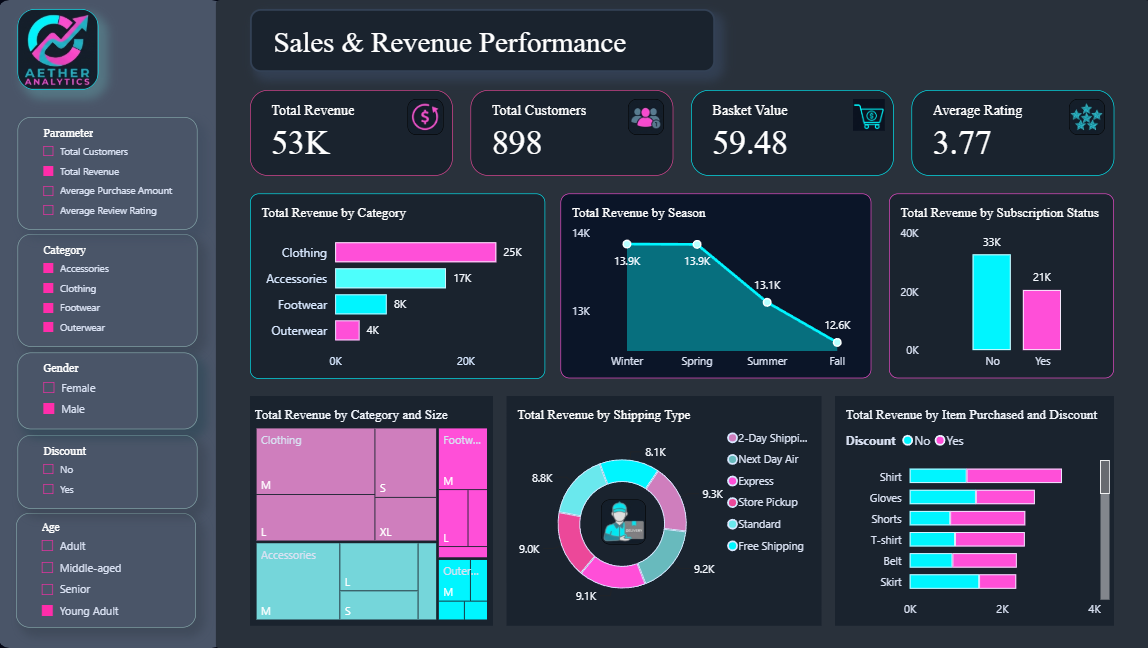

This screenshot's page, from the dashboard's own definition file:
{"tool":"powerbi","page":{"name":"Page 1","canvas":[1280,720],"ordinal":0},"visuals":[{"type":"shape","box":[0,0,250,720],"z":0},{"type":"shape","box":[241,0,1039,720.8],"z":1000},{"type":"cardVisual","fields":{"Data":["customer_info.heading"]},"box":[280,10.7,516.6,70.1],"z":2000},{"type":"slicer","fields":{"Values":["customer_info.Category"]},"box":[21,260,200,125],"z":3000},{"type":"slicer","fields":{"Values":["customer_info.age_category"]},"box":[20,570,200,127],"z":4000},{"type":"slicer","fields":{"Values":["customer_info.Discount_Applied"]},"box":[21.3,483,200,82],"z":5000},{"type":"slicer","fields":{"Values":["customer_info.Gender"]},"box":[21,391,200,85],"z":6000},{"type":"slicer","fields":{"Values":["Parameter.Parameter"]},"box":[21,130,200,125],"z":7000},{"type":"lineChart","fields":{"Y":["customer_info.total revenue"],"Category":["customer_info.Season"]},"box":[625,215,345,205],"z":8000},{"type":"treemap","fields":{"Values":["customer_info.total revenue"],"Group":["customer_info.Category"],"Details":["customer_info.Size"]},"box":[280,440.4,270,255],"z":9000},{"type":"donutChart","fields":{"Y":["customer_info.total revenue"],"Category":["customer_info.Shipping_Type"]},"box":[565,440.4,350,255],"z":10000},{"type":"barChart","fields":{"Y":["customer_info.total revenue"],"Category":["customer_info.Item_Purchased"],"Series":["customer_info.Discount_Applied"]},"box":[930,440,310,255],"z":11000},{"type":"barChart","fields":{"Y":["customer_info.total revenue"],"Category":["customer_info.Category"]},"box":[280,215,328,205.7],"z":12000},{"type":"clusteredColumnChart","fields":{"Y":["customer_info.total revenue"],"Category":["customer_info.Subscription_Status"]},"box":[990,215,250,205],"z":13000},{"type":"image","box":[21,10.7,90,90],"z":14000},{"type":"cardVisual","fields":{"Data":["customer_info.total revenue"]},"box":[280,100.6,225,95],"z":15000},{"type":"cardVisual","fields":{"Data":["customer_info.number of customers"]},"box":[525,100.6,225,95],"z":16000},{"type":"cardVisual","fields":{"Data":["customer_info.average review rating"]},"box":[1015,100.6,225,95],"z":17000},{"type":"cardVisual","fields":{"Data":["customer_info.average purchase amount"]},"box":[770,100.6,225,95],"z":18000},{"type":"image","box":[950,110,35,35],"z":19000},{"type":"image","box":[455,110,40,40],"z":20000},{"type":"image","box":[700,110,40,40],"z":21000},{"type":"image","box":[1190,110,40,40],"z":22000},{"type":"image","box":[670,555,50.3,50.3],"z":23000}]}

Visuals, with their boxes in screenshot pixels (x1, y1, x2, y2), scaled from the page's 1280x720 canvas onto the 1148x648 screenshot:
shape: (0, 0, 224, 647)
shape: (216, 0, 1147, 647)
cardVisual - customer_info.heading: (251, 10, 714, 73)
slicer - customer_info.Category: (19, 234, 198, 346)
slicer - customer_info.age_category: (18, 513, 197, 627)
slicer - customer_info.Discount_Applied: (19, 435, 198, 508)
slicer - customer_info.Gender: (19, 352, 198, 428)
slicer - Parameter.Parameter: (19, 117, 198, 230)
lineChart - customer_info.total revenue x customer_info.Season: (561, 194, 870, 378)
treemap - customer_info.total revenue x customer_info.Category: (251, 396, 493, 626)
donutChart - customer_info.total revenue x customer_info.Shipping_Type: (507, 396, 821, 626)
barChart - customer_info.total revenue x customer_info.Item_Purchased: (834, 396, 1112, 626)
barChart - customer_info.total revenue x customer_info.Category: (251, 194, 545, 379)
clusteredColumnChart - customer_info.total revenue x customer_info.Subscription_Status: (888, 194, 1112, 378)
image: (19, 10, 100, 91)
cardVisual - customer_info.total revenue: (251, 91, 453, 176)
cardVisual - customer_info.number of customers: (471, 91, 673, 176)
cardVisual - customer_info.average review rating: (910, 91, 1112, 176)
cardVisual - customer_info.average purchase amount: (691, 91, 892, 176)
image: (852, 99, 883, 130)
image: (408, 99, 444, 135)
image: (628, 99, 664, 135)
image: (1067, 99, 1103, 135)
image: (601, 500, 646, 545)
